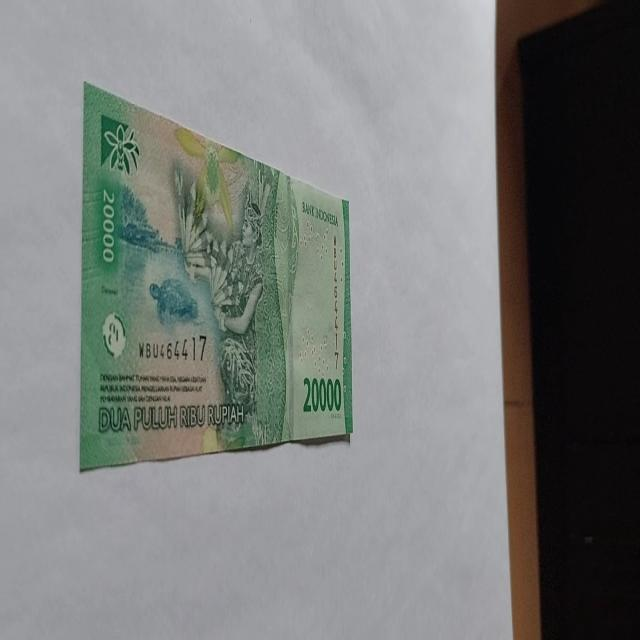dua puluh ribu rupiah: (79, 80, 354, 472)
